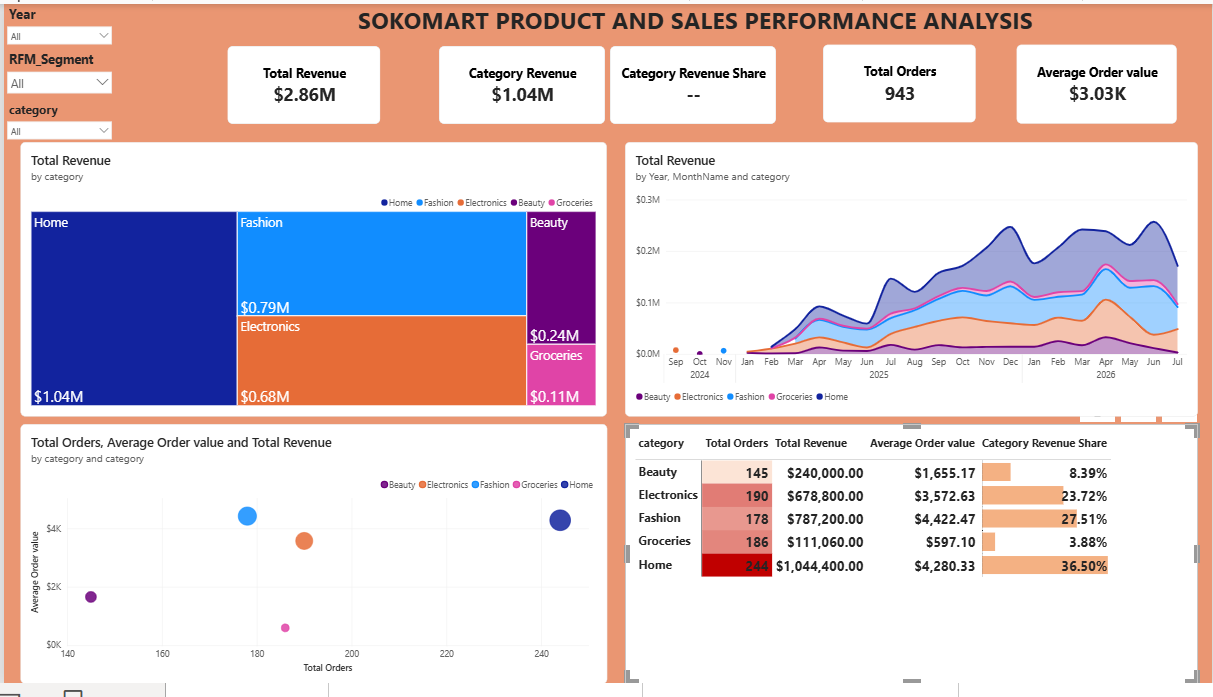

What the dashboard file says about the page in this screenshot:
{"tool":"powerbi","page":{"name":"Product and Sales Performance","canvas":[1920,1080],"ordinal":3},"visuals":[{"type":"textbox","box":[422.3,0,1355.2,66.8],"z":0},{"type":"cardVisual","fields":{"Data":["My_Measure.Total Orders"]},"box":[1302.7,64.4,243.4,124.1],"z":1000},{"type":"cardVisual","fields":{"Data":["My_Measure.Average Order value"]},"box":[1610.5,64.4,255.3,126.5],"z":2000},{"type":"cardVisual","fields":{"Data":["My_Measure.Top Category Revenue","My_Measure.Share"]},"box":[691.9,66.8,536.8,124.1],"z":3000},{"type":"treemap","fields":{"Group":["soko_mart products.category","soko_mart products.product_name"],"Values":["My_Measure.Total Revenue"]},"box":[26.2,219.5,932.9,436.6],"z":4000},{"type":"cardVisual","fields":{"Data":["My_Measure.Total Revenue"]},"box":[355.5,66.8,243.4,124.1],"z":5000},{"type":"scatterChart","fields":{"Category":["soko_mart products.category"],"Series":["soko_mart products.category"],"Size":["My_Measure.Total Revenue"],"X":["My_Measure.Total Orders"],"Y":["My_Measure.Average Order value"]},"box":[26,667,933,413],"z":6000},{"type":"pivotTable","fields":{"Rows":["soko_mart products.category"],"Values":["My_Measure.Total Orders","My_Measure.Total Revenue","My_Measure.Average Order value","My_Measure.Category Revenue Share"]},"box":[988,667,911,413],"z":7000},{"type":"slicer","fields":{"Values":["Date.Year"]},"box":[0,0,176.6,71.6],"z":8000},{"type":"slicer","fields":{"Values":["soko_mart customers.RFM_Segment"]},"box":[0,74,176.6,81.1],"z":9000},{"type":"slicer","fields":{"Values":["soko_mart products.category"]},"box":[0,155.1,176.6,64.4],"z":10000},{"type":"stackedAreaChart","fields":{"Category":["Date.Year","Date.MonthName"],"Series":["soko_mart products.category"],"Y":["My_Measure.Total Revenue"]},"box":[987.8,219.5,911.4,436.6],"z":11000}]}

Visuals, with their boxes in screenshot pixels (x1, y1, x2, y2), scaled from the page's 1920x1080 canvas onto the 1213x697 screenshot:
textbox: [x1=267, y1=0, x2=1123, y2=43]
cardVisual - My_Measure.Total Orders: [x1=823, y1=42, x2=977, y2=122]
cardVisual - My_Measure.Average Order value: [x1=1017, y1=42, x2=1179, y2=123]
cardVisual - My_Measure.Top Category Revenue x My_Measure.Share: [x1=437, y1=43, x2=776, y2=123]
treemap - soko_mart products.category x soko_mart products.product_name: [x1=17, y1=142, x2=606, y2=423]
cardVisual - My_Measure.Total Revenue: [x1=225, y1=43, x2=378, y2=123]
scatterChart - soko_mart products.category x soko_mart products.category: [x1=16, y1=430, x2=606, y2=696]
pivotTable - soko_mart products.category x My_Measure.Total Orders: [x1=624, y1=430, x2=1200, y2=696]
slicer - Date.Year: [x1=0, y1=0, x2=112, y2=46]
slicer - soko_mart customers.RFM_Segment: [x1=0, y1=48, x2=112, y2=100]
slicer - soko_mart products.category: [x1=0, y1=100, x2=112, y2=142]
stackedAreaChart - Date.Year x Date.MonthName: [x1=624, y1=142, x2=1200, y2=423]
